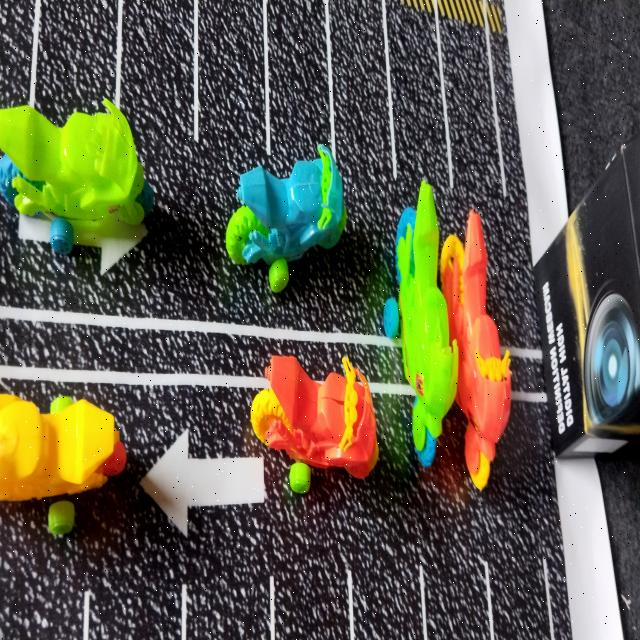bikes: (0, 99, 154, 254), (384, 181, 458, 466), (440, 209, 512, 490), (226, 144, 347, 292), (0, 394, 126, 534), (251, 356, 379, 493)
others: (534, 140, 640, 458)
slots: (121, 1, 194, 187), (200, 1, 265, 172), (268, 0, 331, 175), (333, 3, 394, 182), (36, 0, 117, 124), (388, 5, 447, 173), (441, 25, 500, 186)
